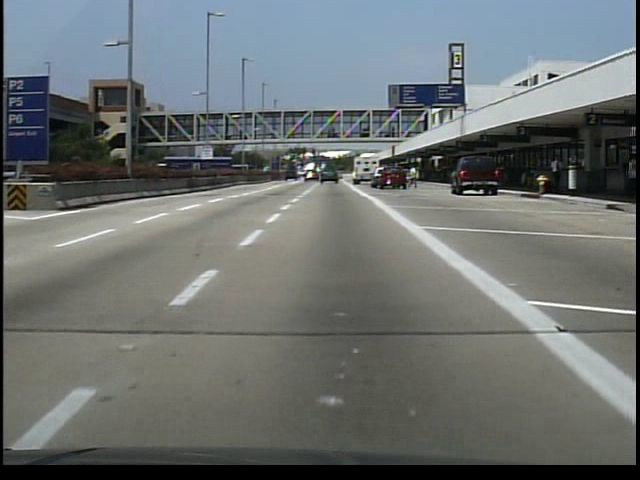person: (546, 153, 566, 199), (408, 168, 422, 191)
